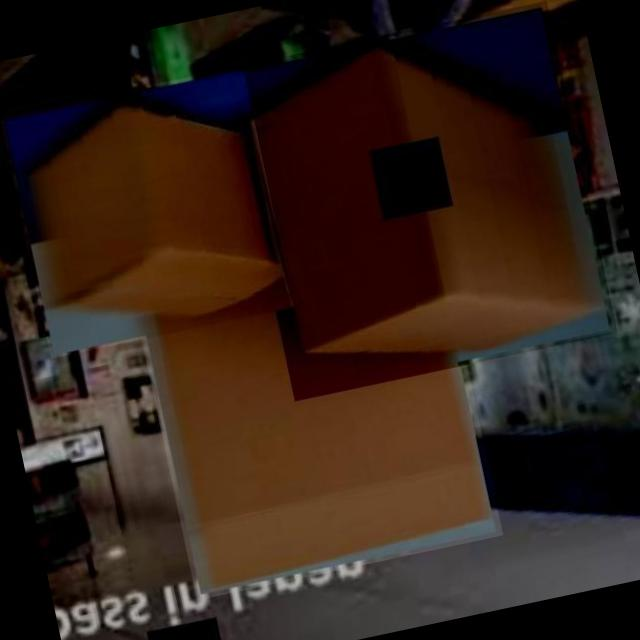box: (224, 0, 618, 401), (130, 218, 503, 600), (0, 65, 293, 358)
